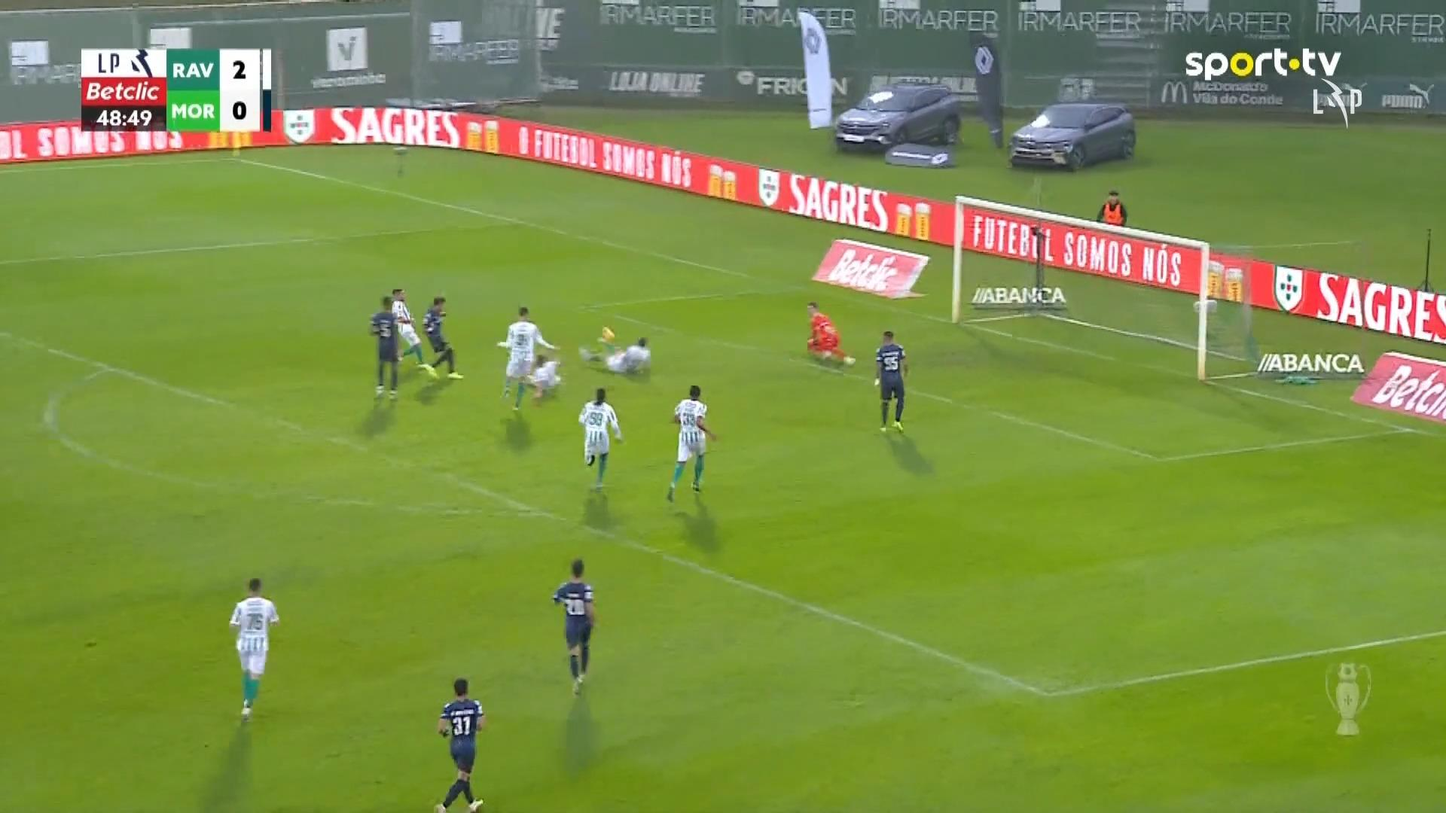ball: (602, 326, 616, 342), (439, 727, 450, 737)
goalkeeper: (805, 301, 856, 367)
player: (228, 576, 279, 721), (433, 677, 486, 811), (496, 305, 559, 411), (551, 556, 596, 695), (666, 384, 717, 502), (578, 386, 623, 490), (578, 324, 651, 377), (368, 294, 404, 400), (419, 295, 463, 379), (873, 330, 908, 432), (389, 287, 427, 369), (526, 352, 563, 401)
